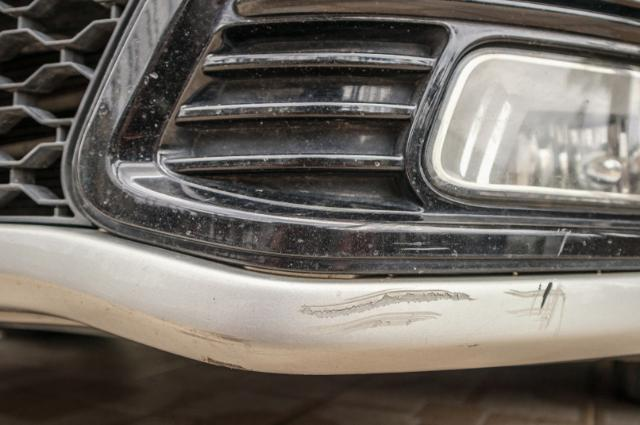Bumper: (186, 212, 588, 357)
